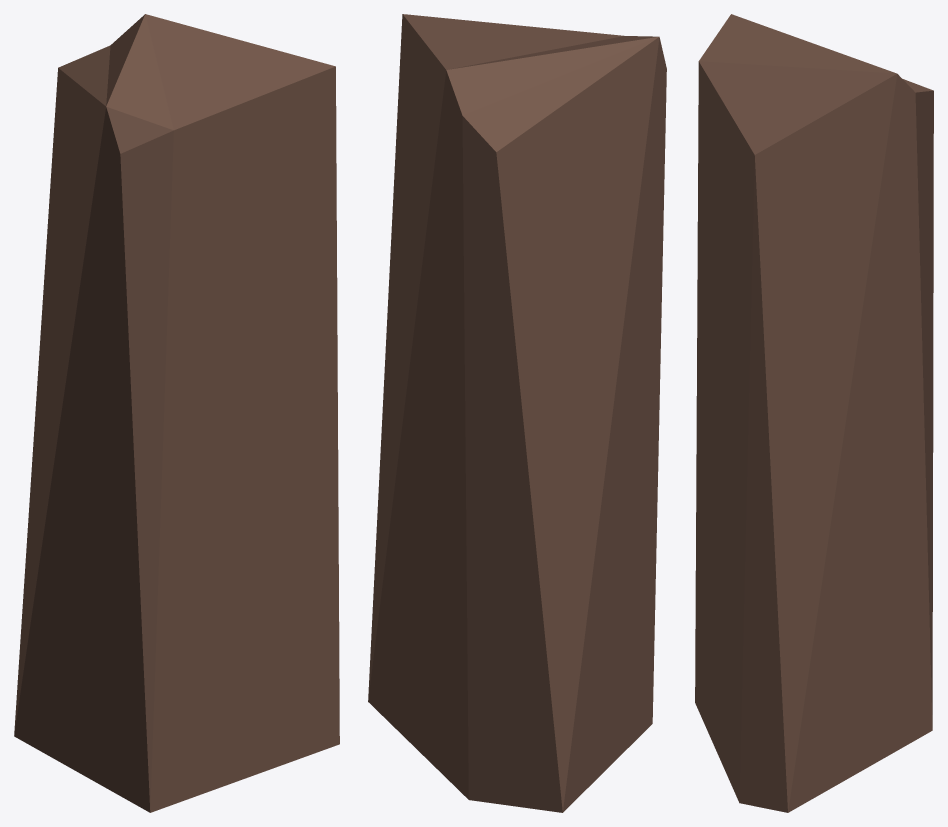
File: Rock.006.fbx
3 renders of one model, left to right at view 1: azimuth 30°, elevation 25°; view 2: azimuth 150°, elevation 25°; view 3: azimuth 270°, elevation 25°, orthographic. The views are drawn at different scales.
Parts seen in each view (by area): view 1: Rock.006; view 2: Rock.006; view 3: Rock.006.
Boxes of the visible parts, x1=… form: Rock.006: x1=14, y1=14, x2=339, y2=812; Rock.006: x1=368, y1=14, x2=666, y2=812; Rock.006: x1=695, y1=14, x2=933, y2=812.
Size of the model in its own units: 163 by 421 by 134.
